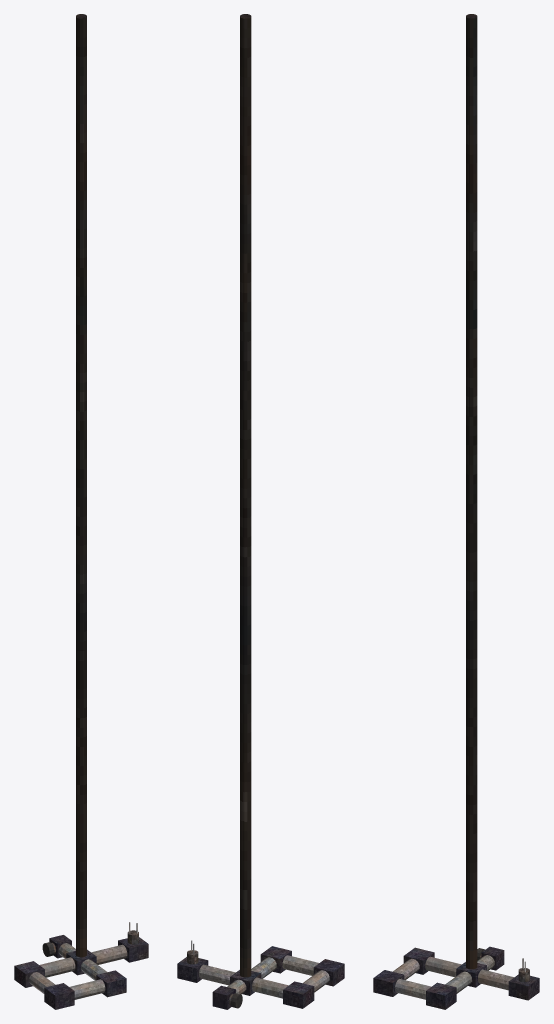
The model's file is life_tube.gltf.
The picture shows the model from 3 angles, left to right: view 1: azimuth 30°, elevation 25°; view 2: azimuth 150°, elevation 25°; view 3: azimuth 330°, elevation 25°; orthographic projection. The views are drawn at different scales.
Parts seen in each view (by area): view 1: cylinder, group2, tube (×3); view 2: cylinder, group2, tube (×3); view 3: cylinder, group2, tube (×3).
Part boxes in pixels (bbox=[...]): cylinder: bbox=[76, 14, 86, 957]; group2: bbox=[14, 935, 148, 1009]; tube (×3): bbox=[39, 943, 127, 999]; cylinder: bbox=[240, 14, 251, 977]; group2: bbox=[177, 946, 344, 1009]; tube (×3): bbox=[199, 955, 318, 998]; cylinder: bbox=[466, 14, 477, 969]; group2: bbox=[373, 946, 539, 1009]; tube (×3): bbox=[395, 955, 513, 999].
Bounding box in the file's own units: 6.38 × 47.16 × 5.44.
1 material, 1 textured.
